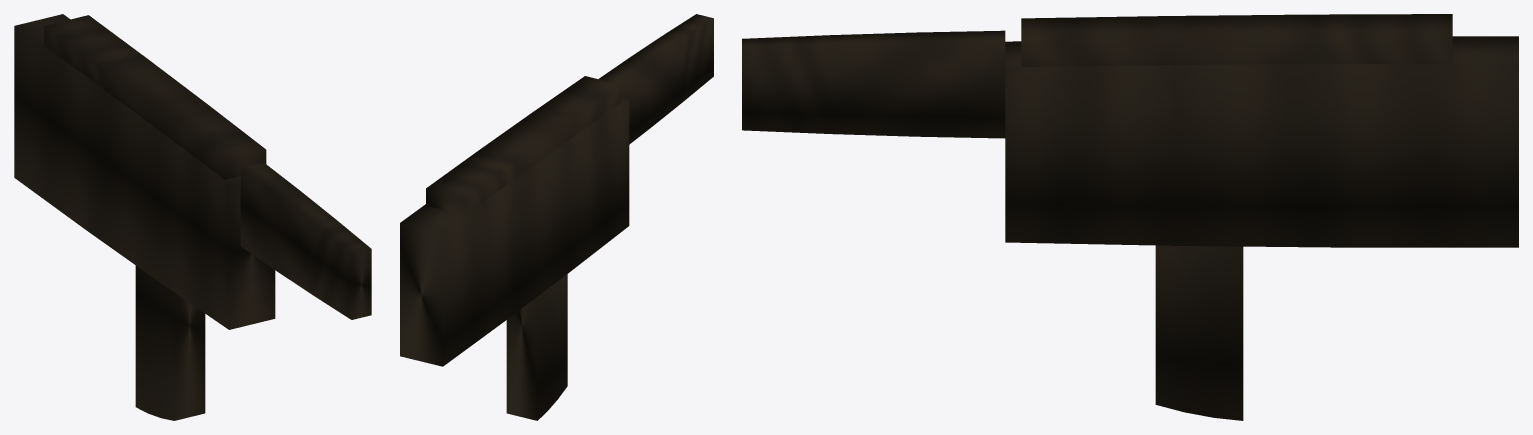
Rendered from wpn_ak74u_krinkov.glb.
3 views of the same model, side by side, from view 1: azimuth 30°, elevation 25°; view 2: azimuth 150°, elevation 25°; view 3: azimuth 270°, elevation 25° (orthographic). The views are drawn at different scales.
Visible parts, largest first — view 1: SubMesh_0_Receiver, SubMesh_1_Action, SubMesh_3_BarrelSight, SubMesh_2_Magazine; view 2: SubMesh_0_Receiver, SubMesh_1_Action, SubMesh_3_BarrelSight, SubMesh_2_Magazine; view 3: SubMesh_0_Receiver, SubMesh_3_BarrelSight, SubMesh_1_Action, SubMesh_2_Magazine.
Boxes of the visible parts, bbox=[...] form: SubMesh_0_Receiver: bbox=[14, 14, 275, 329]; SubMesh_1_Action: bbox=[44, 15, 266, 179]; SubMesh_3_BarrelSight: bbox=[240, 162, 371, 319]; SubMesh_2_Magazine: bbox=[135, 265, 205, 420]; SubMesh_0_Receiver: bbox=[400, 97, 629, 366]; SubMesh_1_Action: bbox=[426, 76, 621, 214]; SubMesh_3_BarrelSight: bbox=[599, 14, 713, 144]; SubMesh_2_Magazine: bbox=[506, 274, 567, 420]; SubMesh_0_Receiver: bbox=[1005, 36, 1518, 247]; SubMesh_3_BarrelSight: bbox=[742, 30, 1005, 138]; SubMesh_1_Action: bbox=[1021, 14, 1452, 66]; SubMesh_2_Magazine: bbox=[1155, 245, 1243, 420].
Bounding box in the file's own units: 0.054 × 0.3377 × 0.62.
1 material, 1 textured.
